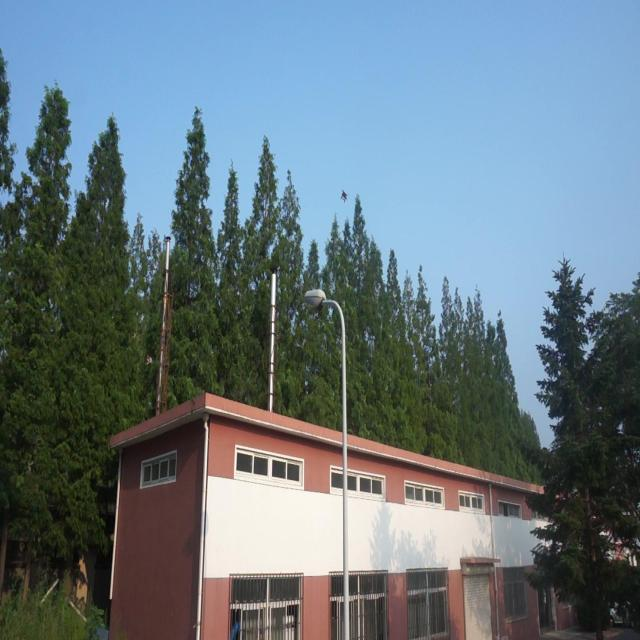drone: (338, 186, 349, 206)
